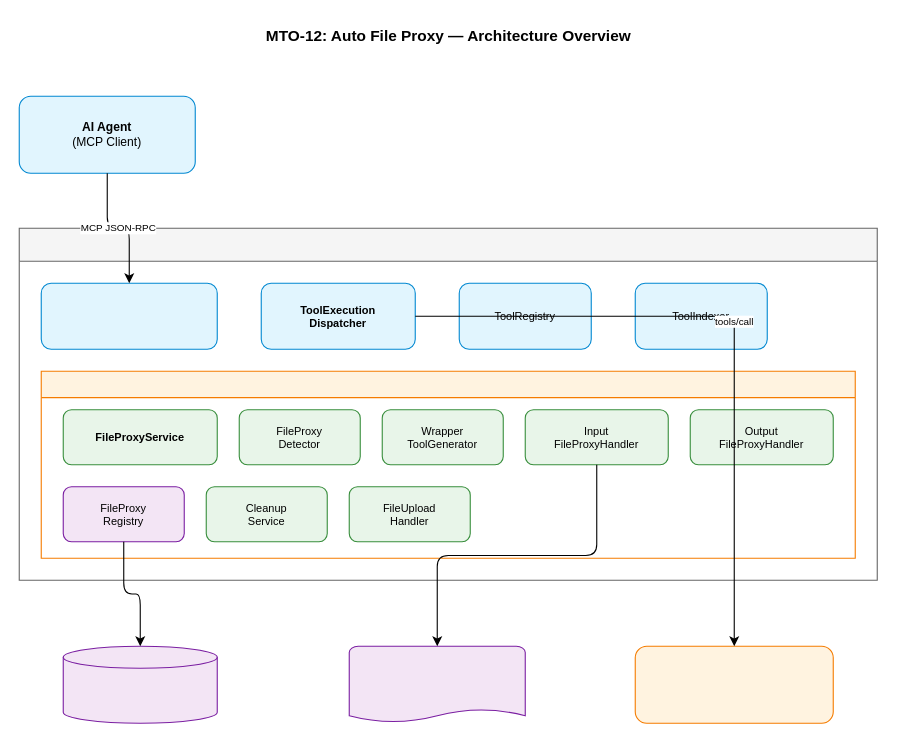
Some shapes in this 897 by 743 pixel diagram are drawn without their labels. The box of each missing label's shape, as (x1, y1, x2, y2) in pixels:
File Proxy Layer (NEW): (40, 370, 855, 558)
File System /tmp/mcp-file-proxy: (348, 645, 525, 723)
MCP Orchestrator Server: (18, 227, 877, 580)
PostgreSQL file_proxy_registry: (62, 645, 217, 723)
Protocol Layer McpProtocolHandler: (40, 282, 217, 349)
Upstream MCP Servers (STDIO / HTTP): (634, 645, 833, 723)
